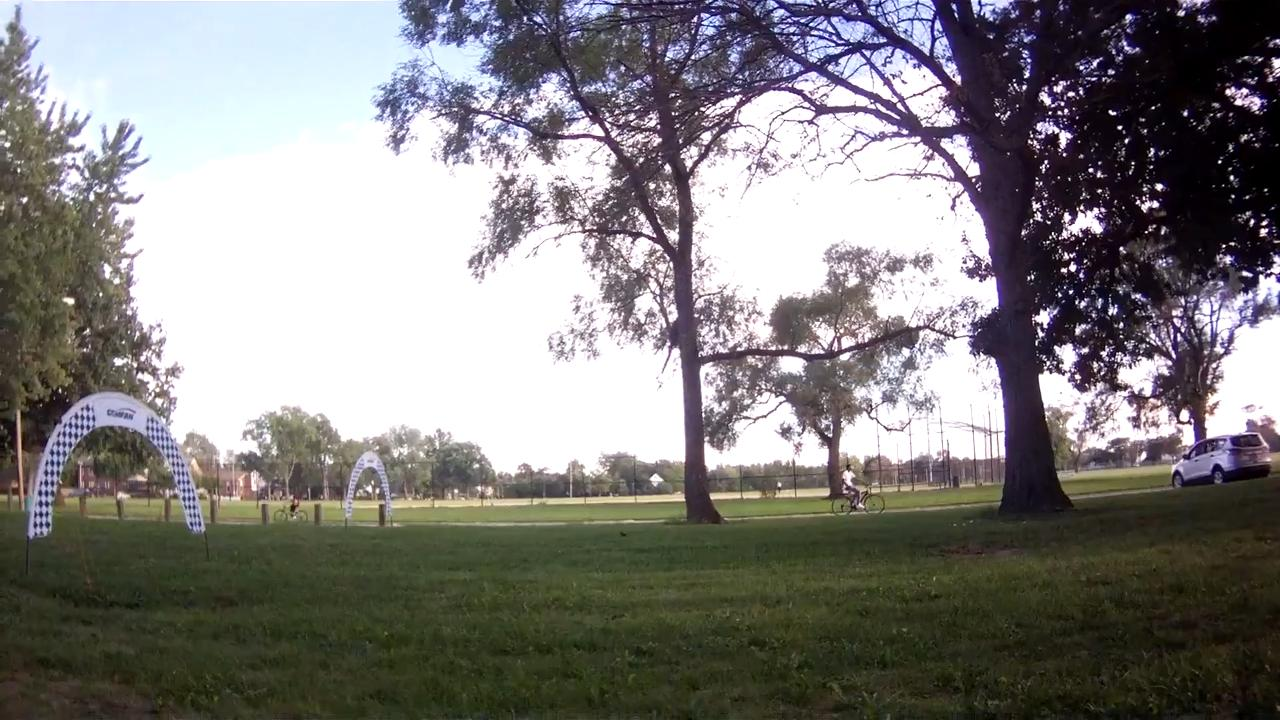gate: (28, 391, 210, 538)
